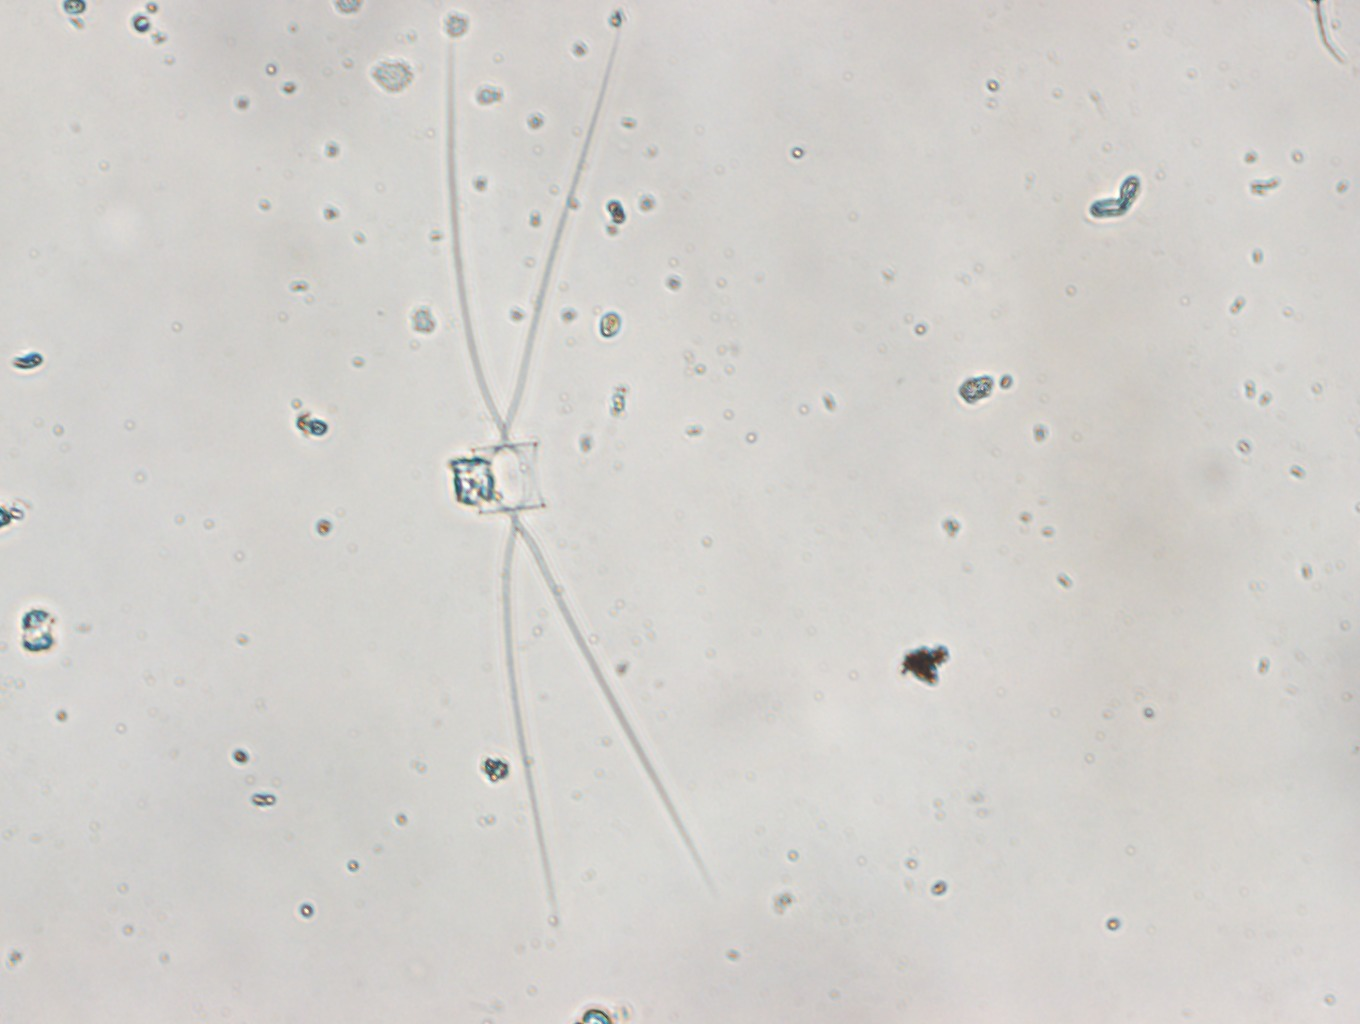chaetoceros: (432, 20, 740, 943)
